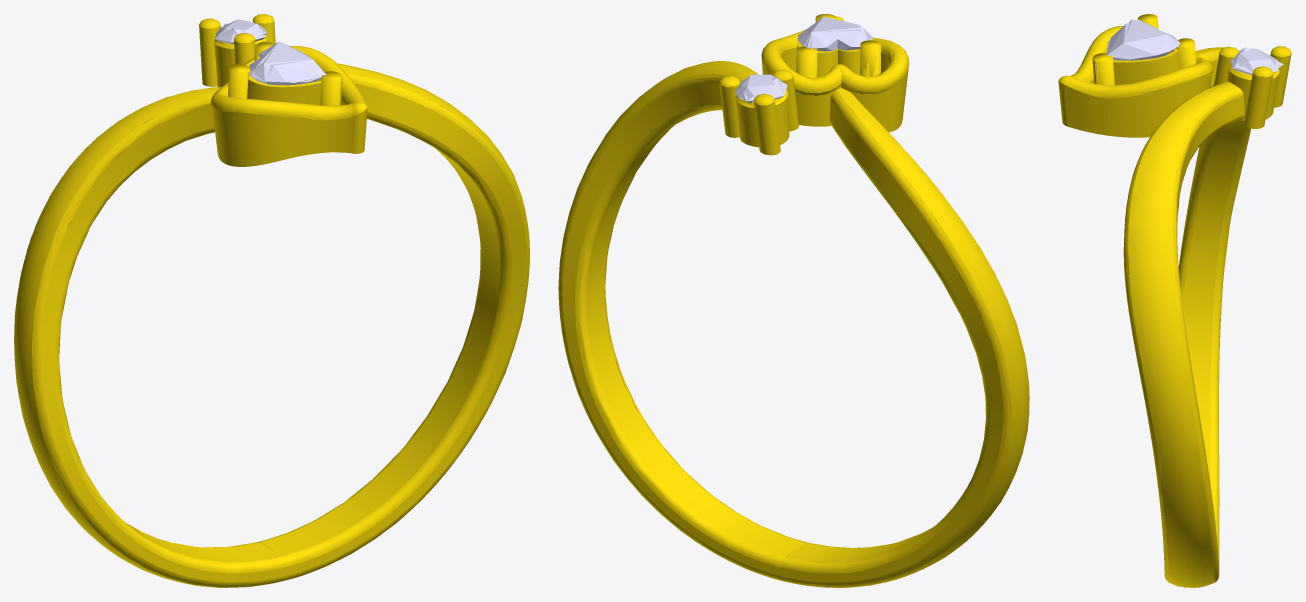
File: DLR-D000675722.glb
3 views of the same model, side by side, from view 1: azimuth 30°, elevation 25°; view 2: azimuth 150°, elevation 25°; view 3: azimuth 270°, elevation 25° (orthographic). The views are drawn at different scales.
Visible parts, largest first — view 1: highPolyMesh, lowPolyMesh; view 2: highPolyMesh, lowPolyMesh; view 3: highPolyMesh, lowPolyMesh.
Boxes of the visible parts, <box> form: highPolyMesh: <box>14,14,529,587</box>; lowPolyMesh: <box>14,14,529,587</box>; highPolyMesh: <box>558,14,1029,587</box>; lowPolyMesh: <box>558,14,1029,587</box>; highPolyMesh: <box>1058,14,1291,587</box>; lowPolyMesh: <box>1058,15,1291,587</box>.
Bounding box in the file's own units: 0.0198 × 0.0214 × 0.00858.
